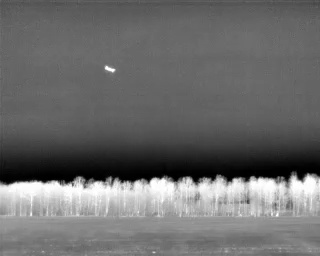DRONE: (100, 61, 119, 78)
